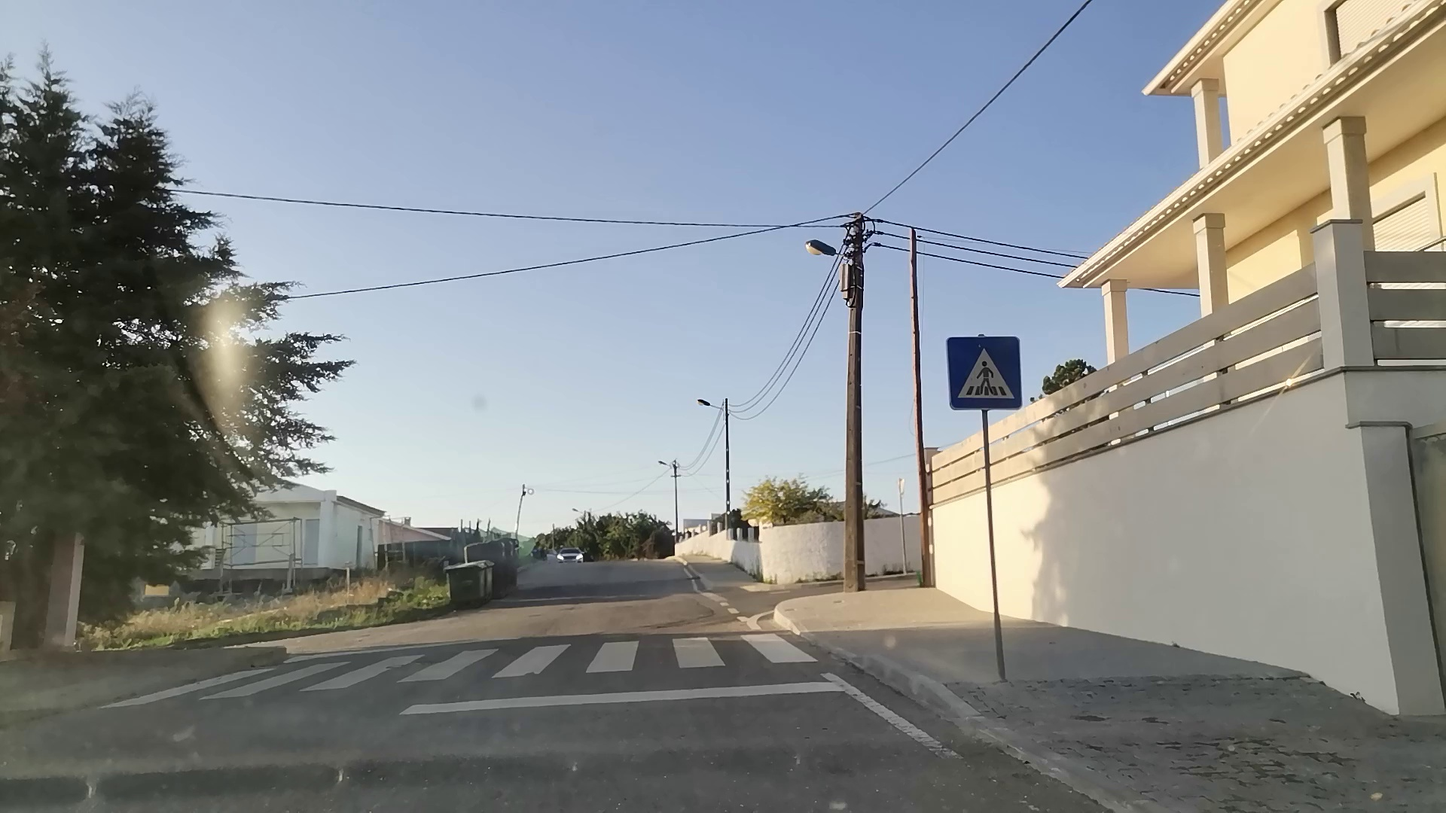Stairs: (109, 627, 816, 706)
